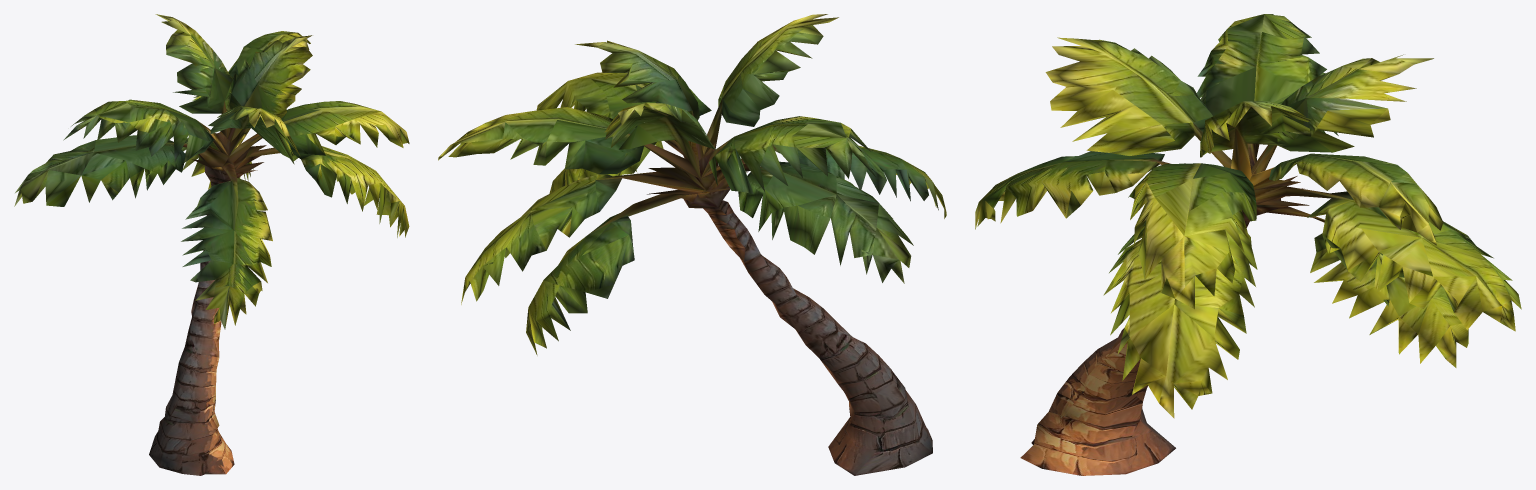
The model's file is palm.glb.
3 views of the same model, side by side, from view 1: azimuth 30°, elevation 25°; view 2: azimuth 150°, elevation 25°; view 3: azimuth 270°, elevation 25° (orthographic). The views are drawn at different scales.
Parts seen in each view (by area): view 1: PalmMesh; view 2: PalmMesh; view 3: PalmMesh.
Boxes of the visible parts, <box> form: PalmMesh: <box>14,14,409,475</box>; PalmMesh: <box>438,14,946,475</box>; PalmMesh: <box>975,14,1521,475</box>.
Size of the model in its own units: 4 by 3.69 by 4.
Materials: 1 (1 with a texture image).
